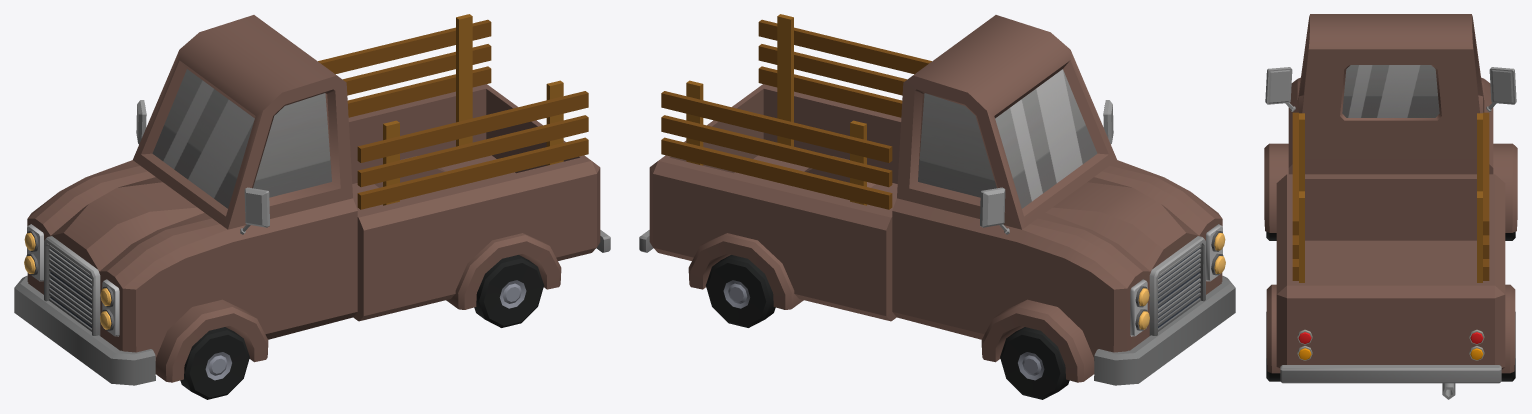
Rendered from Car_12_P.gltf.
3 renders of one model, left to right at view 1: azimuth 30°, elevation 25°; view 2: azimuth 150°, elevation 25°; view 3: azimuth 270°, elevation 25°, orthographic. The views are drawn at different scales.
Visible parts, largest first — view 1: Car_12_P, RL, FL; view 2: Car_12_P, RR, FR; view 3: Car_12_P.
Part boxes in pixels (box(x1,y1,x2,y2)): Car_12_P: box(14, 14, 610, 385); RL: box(474, 255, 544, 327); FL: box(180, 327, 249, 399); Car_12_P: box(639, 14, 1235, 385); RR: box(705, 255, 775, 327); FR: box(1000, 327, 1069, 399); Car_12_P: box(1264, 14, 1517, 399).
Bounding box in the file's own units: 3.82 × 2.01 × 1.73.
Materials: 4 (4 with a texture image).
